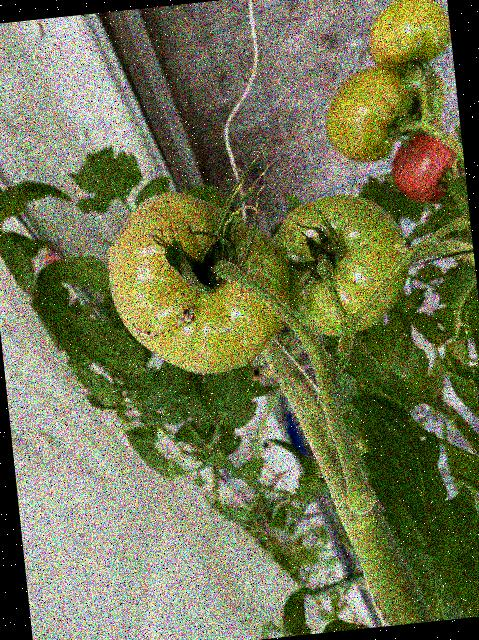b_fully_ripened: (388, 129, 467, 205)
b_green: (100, 180, 298, 383), (265, 189, 417, 343)
b_half_ripened: (319, 64, 416, 167), (364, 0, 454, 77)
